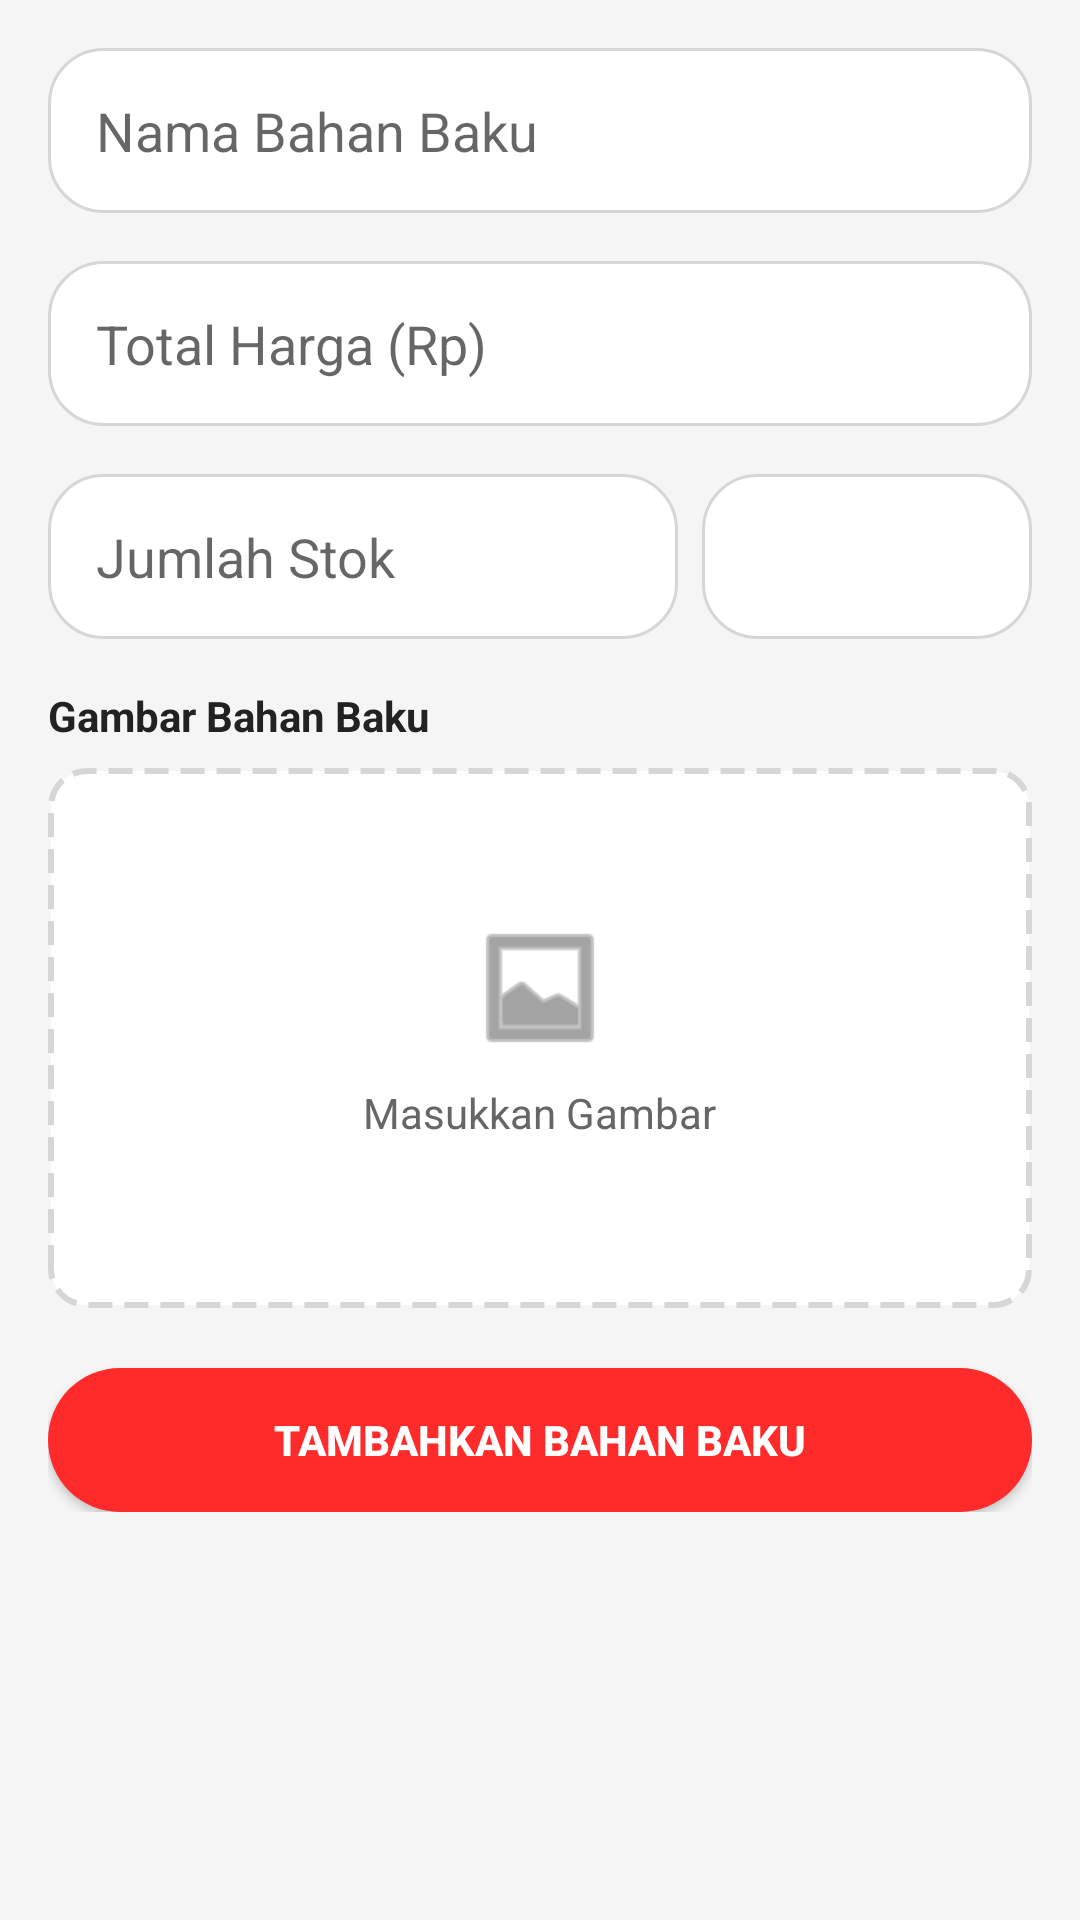

Icon bounding boxes for this 1080 × 1920 phone screenshot, format bbox=(x1, y1, x2, y2):
gallery: bbox=(486, 934, 594, 1042)
